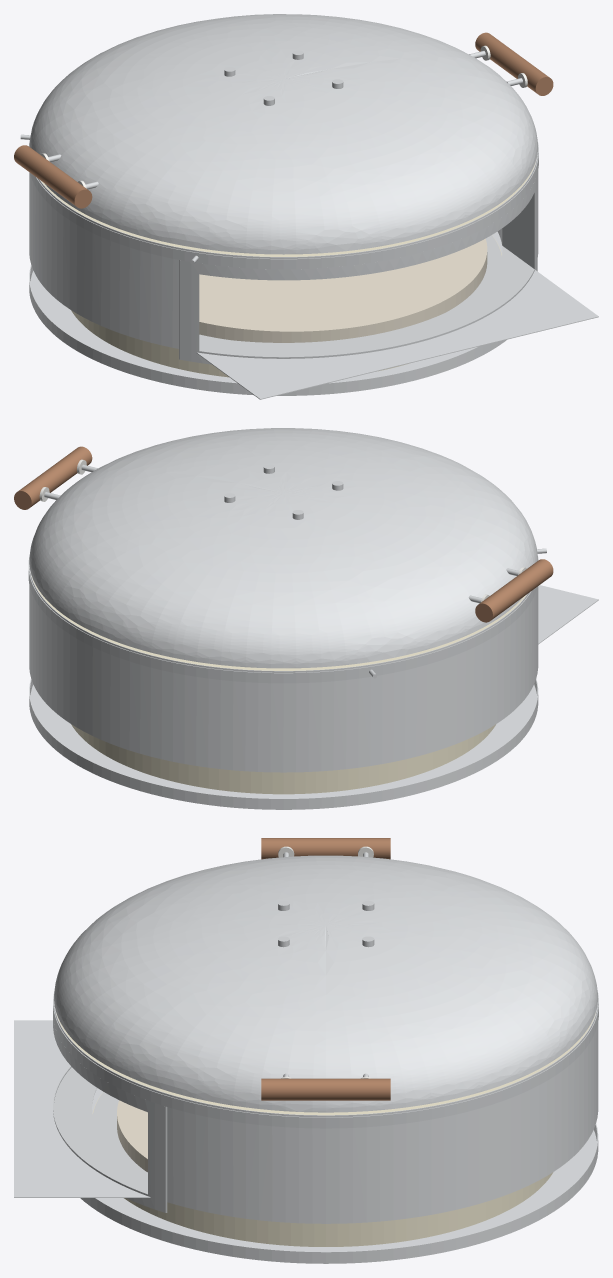
Rendered from moondancer.glb.
3 renders of one model, top to bottom at view 1: azimuth 30°, elevation 25°; view 2: azimuth 150°, elevation 25°; view 3: azimuth 270°, elevation 25°, orthographic. The views are drawn at different scales.
Visible parts, largest first — view 1: outer_dome, floor_cordierite, outer_skirt, mouth_frame, peel_landing, cinch_band, base_lip, base_pan, floor_insulation, handle_port, handle_starboard, wall_insulation (+1 smaller); view 2: outer_dome, outer_skirt, floor_insulation, base_pan, base_lip, cinch_band, peel_landing, handle_port, handle_starboard, wall_insulation; view 3: outer_dome, outer_skirt, peel_landing, floor_insulation, mouth_frame, cinch_band, base_lip, base_pan, handle_starboard, handle_port, wall_insulation, floor_cordierite (+1 smaller).
Part boxes in pixels (x1=…): outer_dome: x1=29, y1=14, x2=537, y2=254; floor_cordierite: x1=199, y1=238, x2=487, y2=342; outer_skirt: x1=29, y1=146, x2=538, y2=348; mouth_frame: x1=179, y1=173, x2=537, y2=364; peel_landing: x1=196, y1=270, x2=598, y2=399; cinch_band: x1=29, y1=141, x2=538, y2=269; base_lip: x1=29, y1=264, x2=505, y2=395; base_pan: x1=29, y1=231, x2=506, y2=395; floor_insulation: x1=71, y1=235, x2=501, y2=377; handle_port: x1=14, y1=145, x2=92, y2=208; handle_starboard: x1=475, y1=32, x2=553, y2=95; wall_insulation: x1=41, y1=161, x2=535, y2=256; outer_dome: x1=29, y1=428, x2=537, y2=668; outer_skirt: x1=29, y1=565, x2=538, y2=772; floor_insulation: x1=71, y1=724, x2=495, y2=794; base_pan: x1=29, y1=684, x2=538, y2=809; base_lip: x1=29, y1=678, x2=538, y2=808; cinch_band: x1=28, y1=555, x2=538, y2=683; peel_landing: x1=538, y1=585, x2=598, y2=644; handle_port: x1=475, y1=559, x2=553, y2=622; handle_starboard: x1=14, y1=446, x2=92, y2=509; wall_insulation: x1=31, y1=576, x2=525, y2=670; outer_dome: x1=54, y1=855, x2=597, y2=1112; outer_skirt: x1=54, y1=997, x2=598, y2=1223; peel_landing: x1=14, y1=1020, x2=150, y2=1197; floor_insulation: x1=92, y1=1093, x2=553, y2=1246; mouth_frame: x1=53, y1=1016, x2=167, y2=1212; cinch_band: x1=53, y1=992, x2=598, y2=1128; base_lip: x1=81, y1=1123, x2=598, y2=1262; base_pan: x1=80, y1=1088, x2=598, y2=1263; handle_starboard: x1=261, y1=1078, x2=390, y2=1100; handle_port: x1=261, y1=838, x2=390, y2=859; wall_insulation: x1=56, y1=1012, x2=595, y2=1115; floor_cordierite: x1=117, y1=1100, x2=147, y2=1172.
Size of the model in its own units: 0.594 by 0.2603 by 0.5875.
